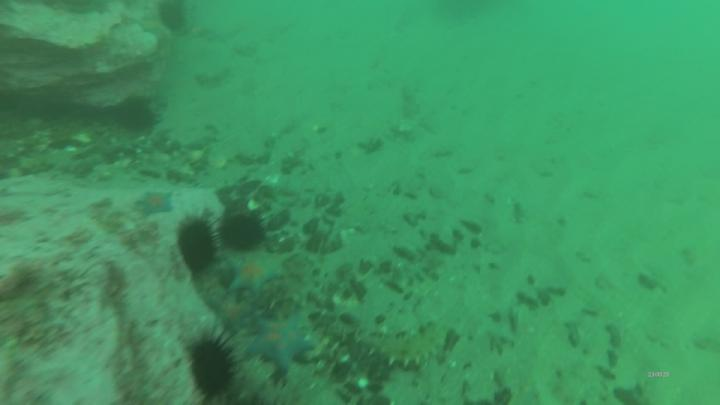echinus: (193, 337, 235, 398), (182, 223, 218, 271), (221, 216, 266, 249), (116, 102, 156, 134), (157, 2, 189, 33)
holothurian: (362, 322, 450, 367)
starfish: (250, 317, 309, 368), (230, 256, 280, 293), (209, 299, 250, 332), (136, 192, 175, 217)
